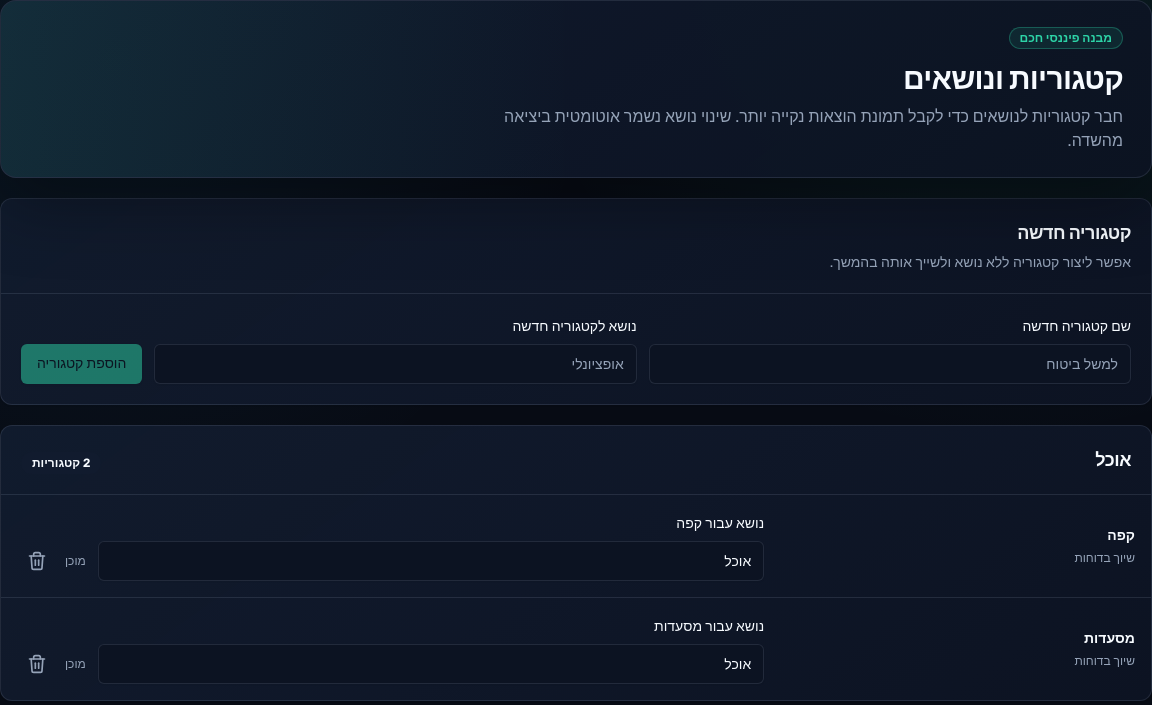
Test: shows useful fallback messages for non-Error category rejections
Replace the text in the field labelled "נושא עבור קפה" with "בתי קפה": (431, 561) [98,541,764,581]
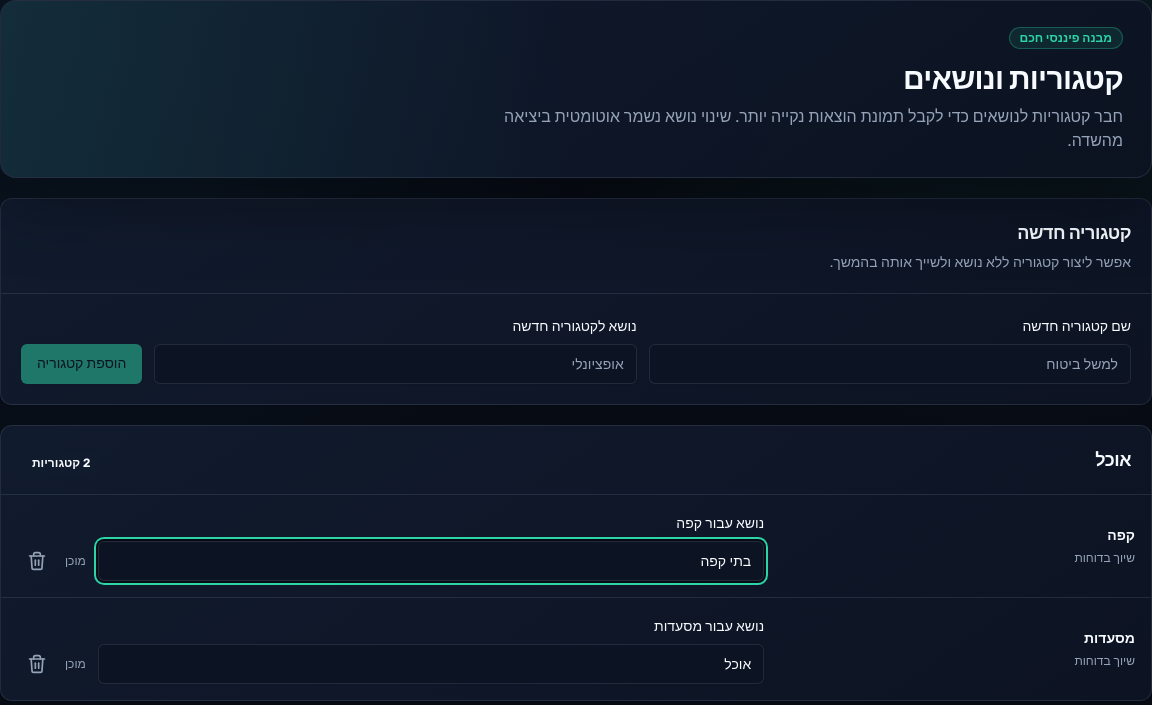
Press Tab
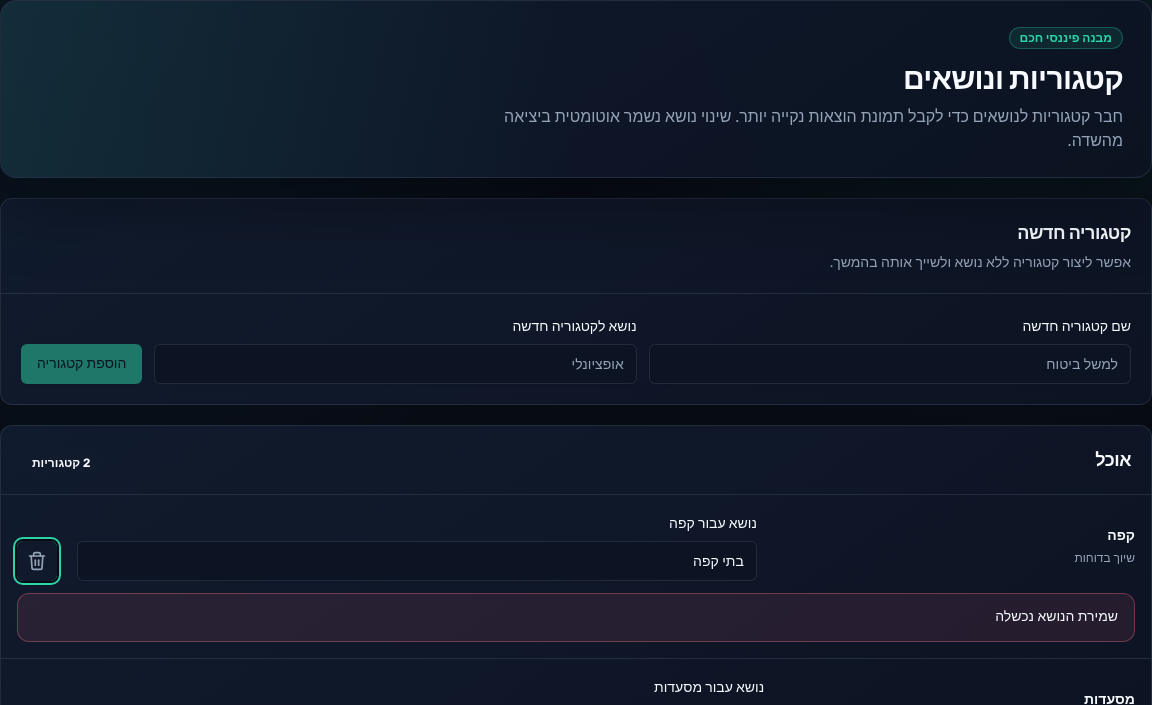
Expected: the message reads "שמירת הנושא נכשלה", [995,608,1118,625]
